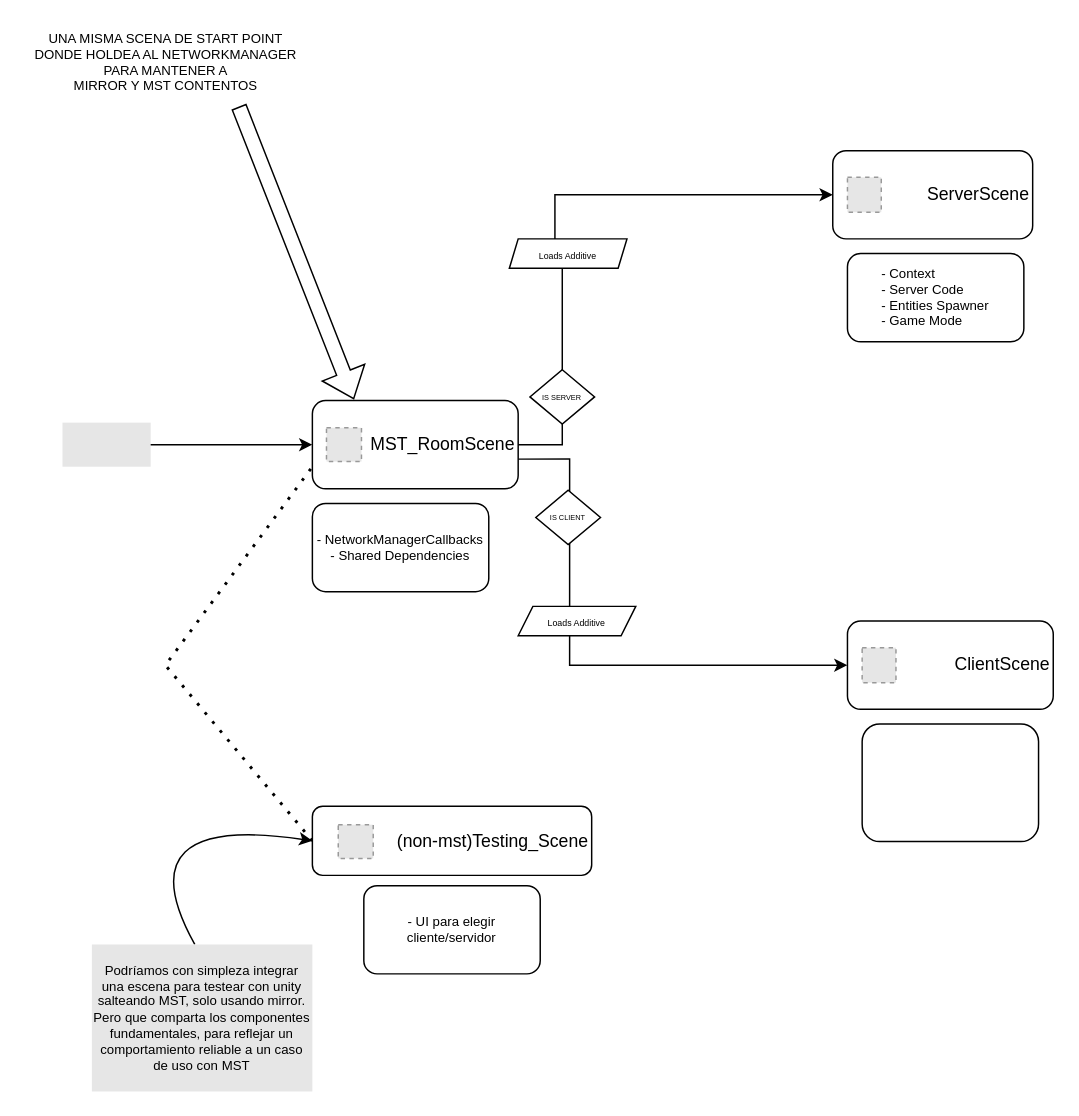
Some shapes in this 1079 by 1116 pixel diagram are drawn without their labels. Grey dashed boxes stand in for pictures. Each missing label, with the centre of its shape:
"- Context - Client Code - VFX - Audio Manager - LocalSpawner -UI" goes at pixel 950 782.
"STARTUP" goes at pixel 106 444.
